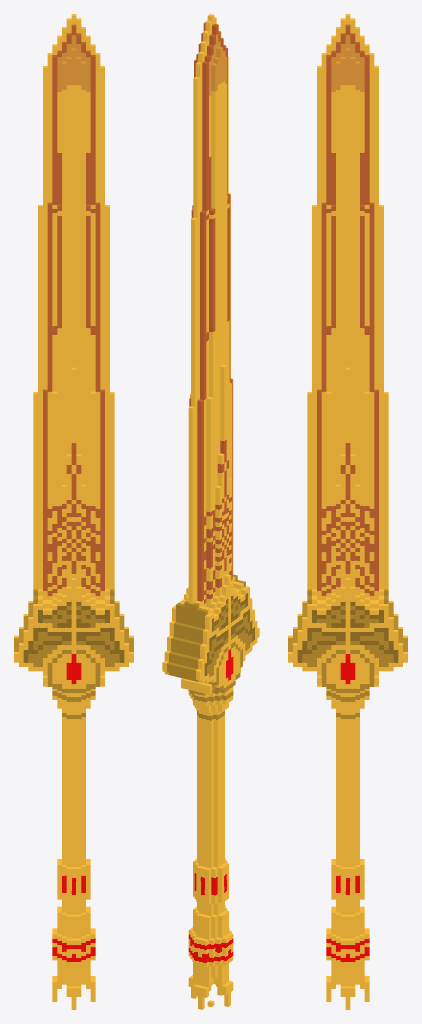
File: 【崩坏三】轩辕剑.gltf
3 renders of one model, left to right at view 1: azimuth 90°, elevation 25°; view 2: azimuth 150°, elevation 25°; view 3: azimuth 270°, elevation 25°, orthographic.
Visible parts, largest first — view 1: Object; view 2: Object; view 3: Object.
Boxes of the visible parts, left/top/right/bottom form: Object: left=14, top=14, right=133, bottom=1009; Object: left=162, top=14, right=259, bottom=1009; Object: left=288, top=14, right=407, bottom=1009.
Bounding box in the file's own units: 9 × 228 × 25.
1 material, 1 textured.
